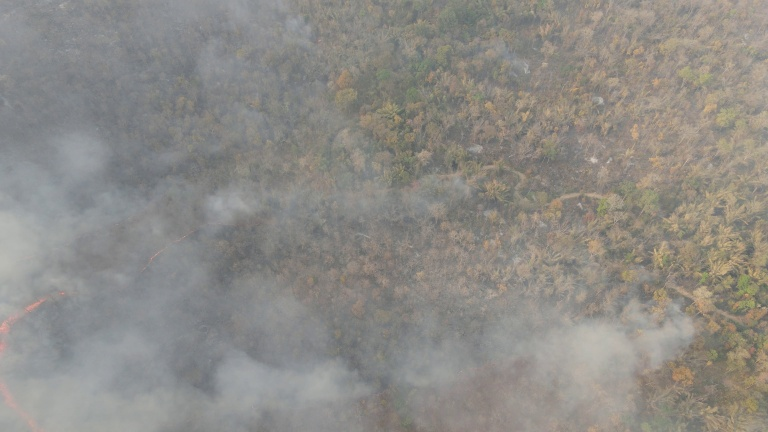fire: (1, 289, 71, 432), (139, 221, 216, 272)
smoke: (1, 188, 352, 428), (535, 298, 681, 419)
